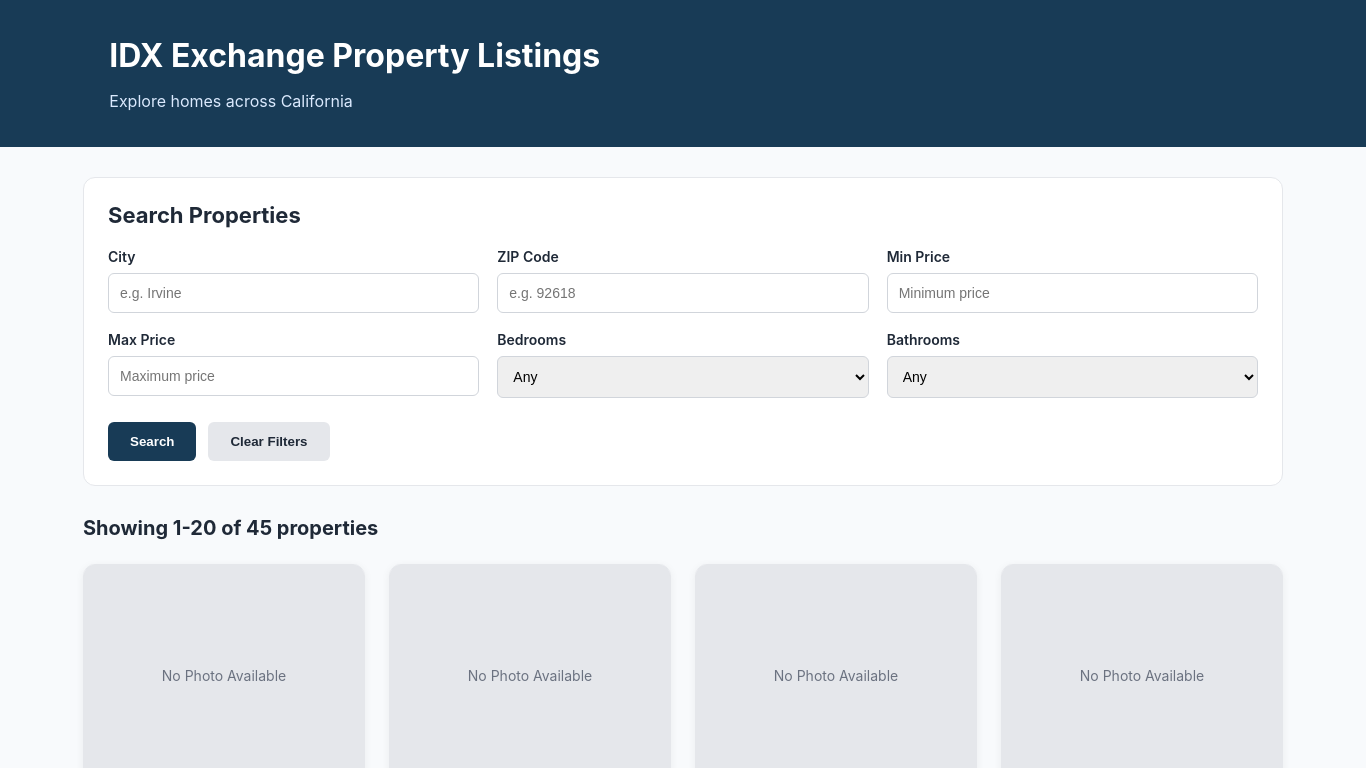
ListingsPage Pagination Integration › preserves filters across page changes
In the field labelled "City": (294, 293) x1=108 y1=273 x2=479 y2=313, type "Irvine"
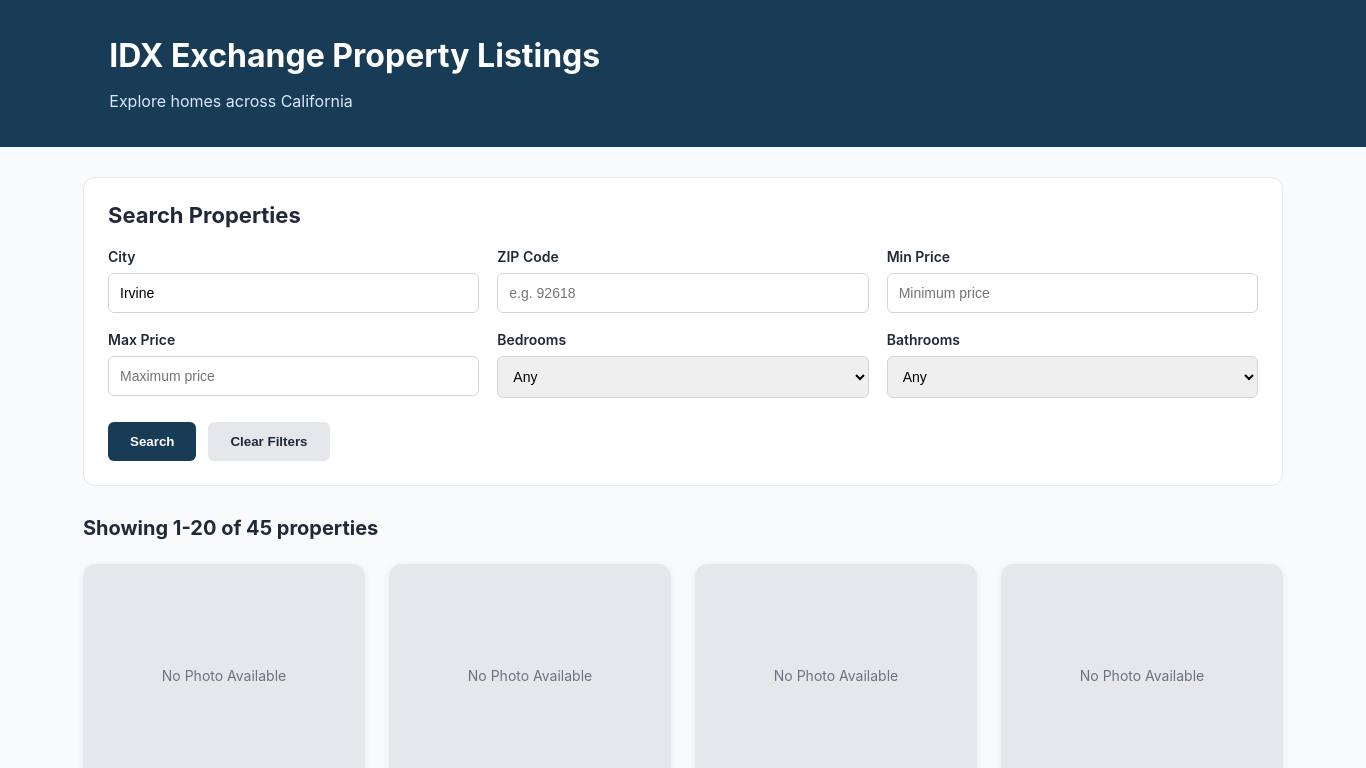
Click the button "Search": click(152, 442) x1=108 y1=422 x2=196 y2=461
(page scrolled)
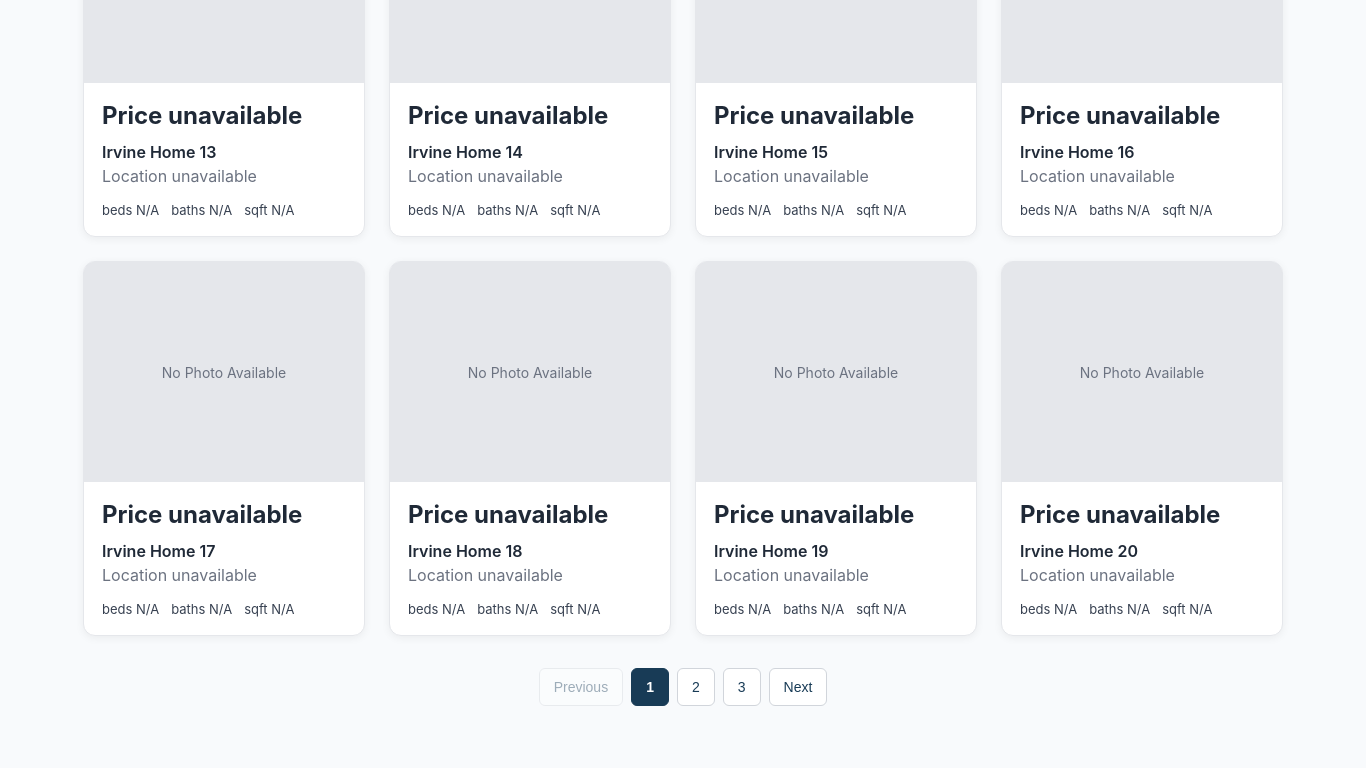
Click the button "2": click(696, 687) x1=677 y1=668 x2=715 y2=706
(page scrolled)
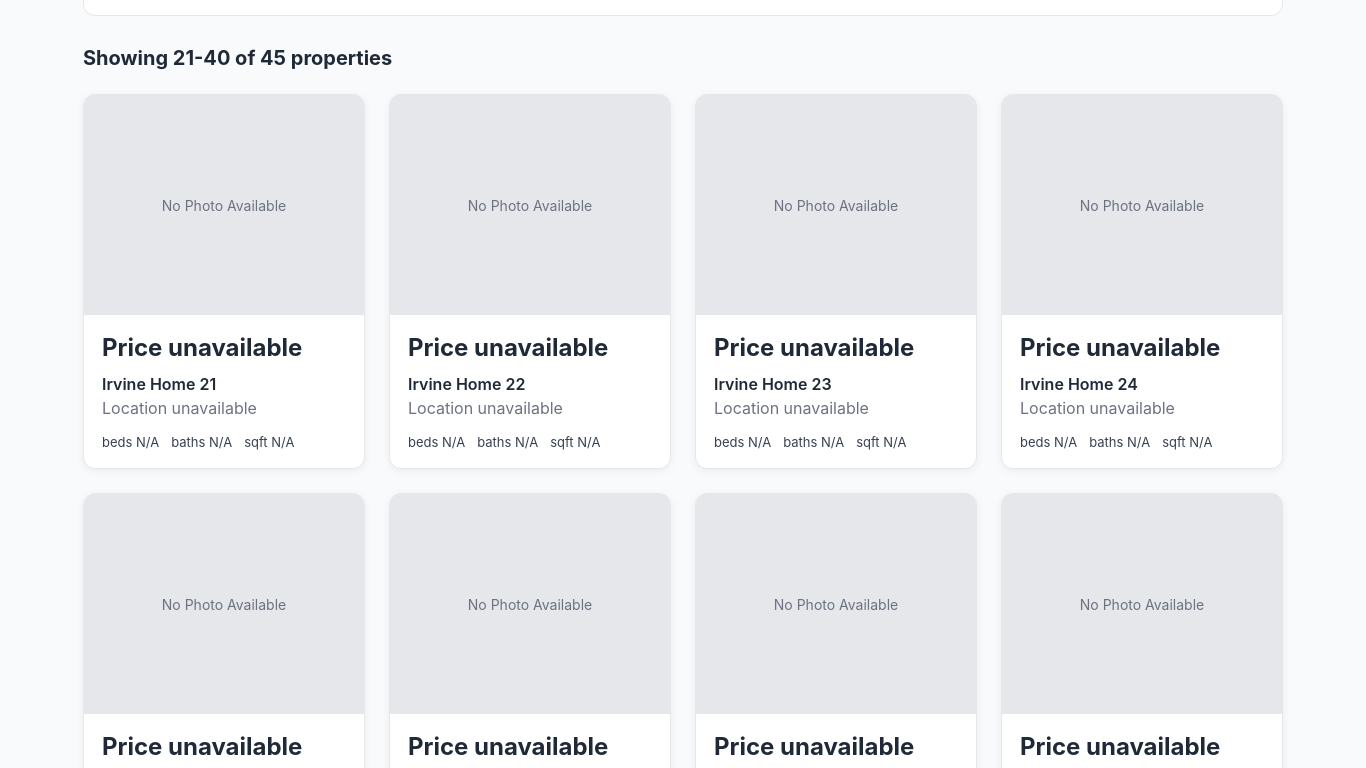
Expected: the text "Irvine Home 21" is shown, x1=102 y1=374 x2=216 y2=394
